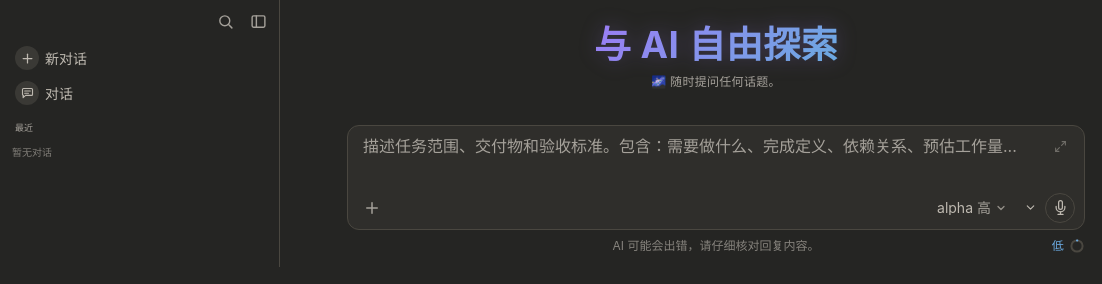
Test case: ExploreChat model picker (Claude-style menu) › shows the active model as the top menu item
Click the button with class "cmodel-btn": (970, 208) x1=927 y1=197 x2=1013 y2=219
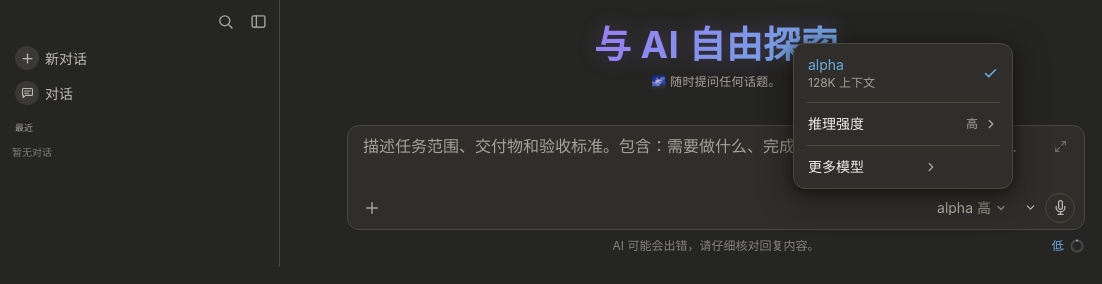
Result: the text with class "cmodel-item-name" reads "alpha" at x1=808 y1=56 x2=844 y2=73
